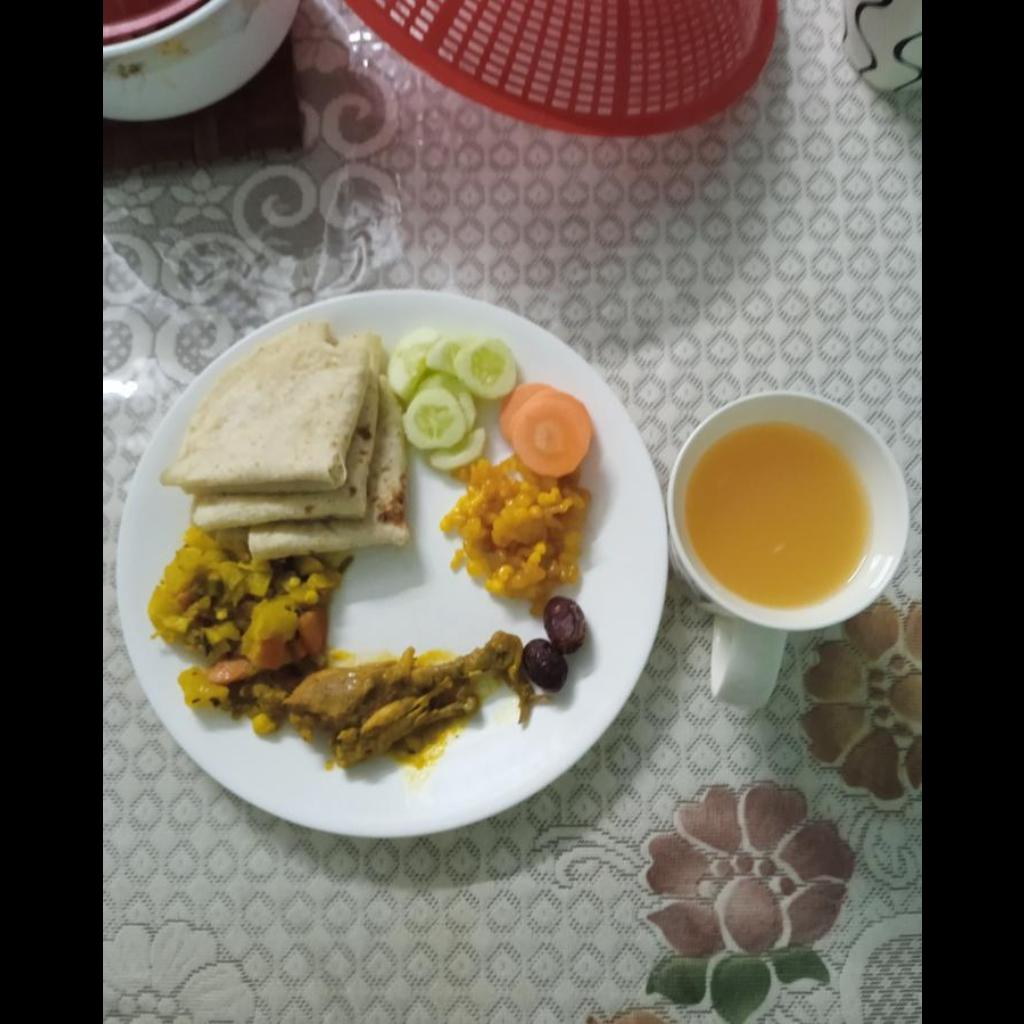burinda: (439, 456, 587, 614)
carrot: (499, 382, 592, 477)
chicken: (293, 626, 511, 755)
cucumber: (388, 332, 516, 472)
dates: (520, 596, 584, 692)
juice: (677, 422, 878, 615)
ruti: (160, 323, 404, 551)
vegetable: (148, 527, 350, 734)
